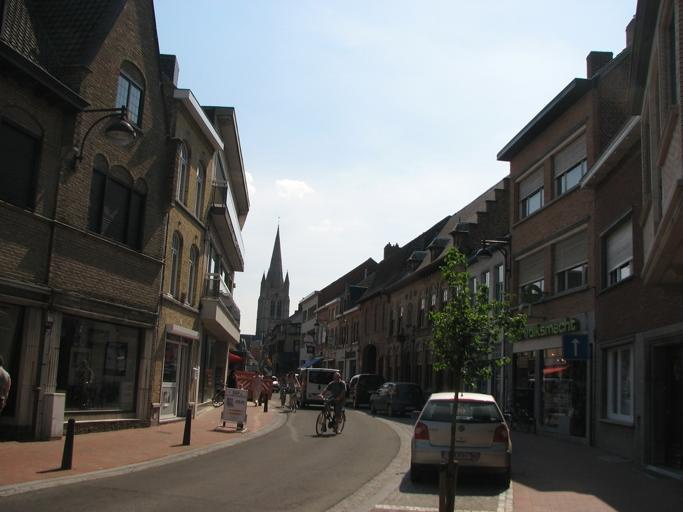non-vehicle: (314, 394, 345, 436), (76, 380, 96, 409), (285, 385, 300, 414), (210, 382, 226, 406), (277, 385, 288, 407)
